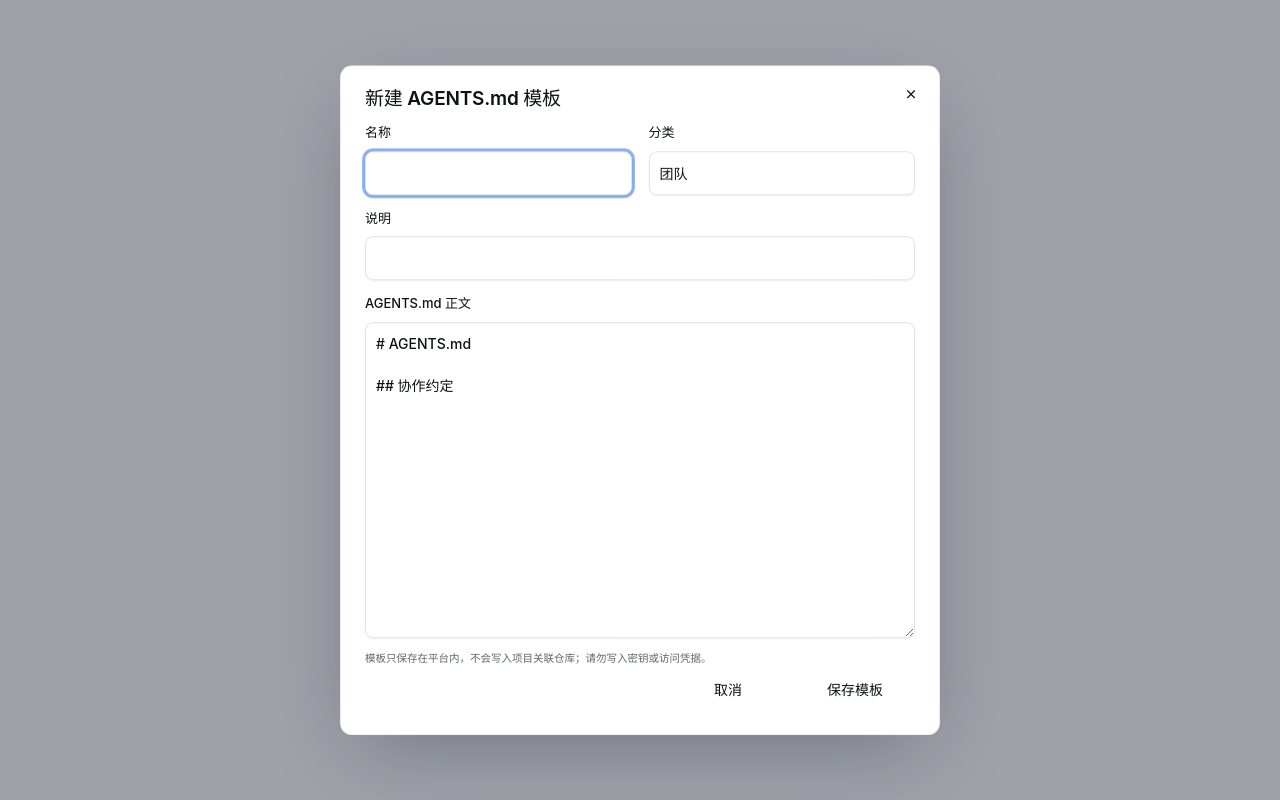
Test: TemplateForm › 名称与正文为空时阻止提交
This screenshot has width=1280, height=800.
Click the button "保存模板": (855, 690) [795,668,915,712]
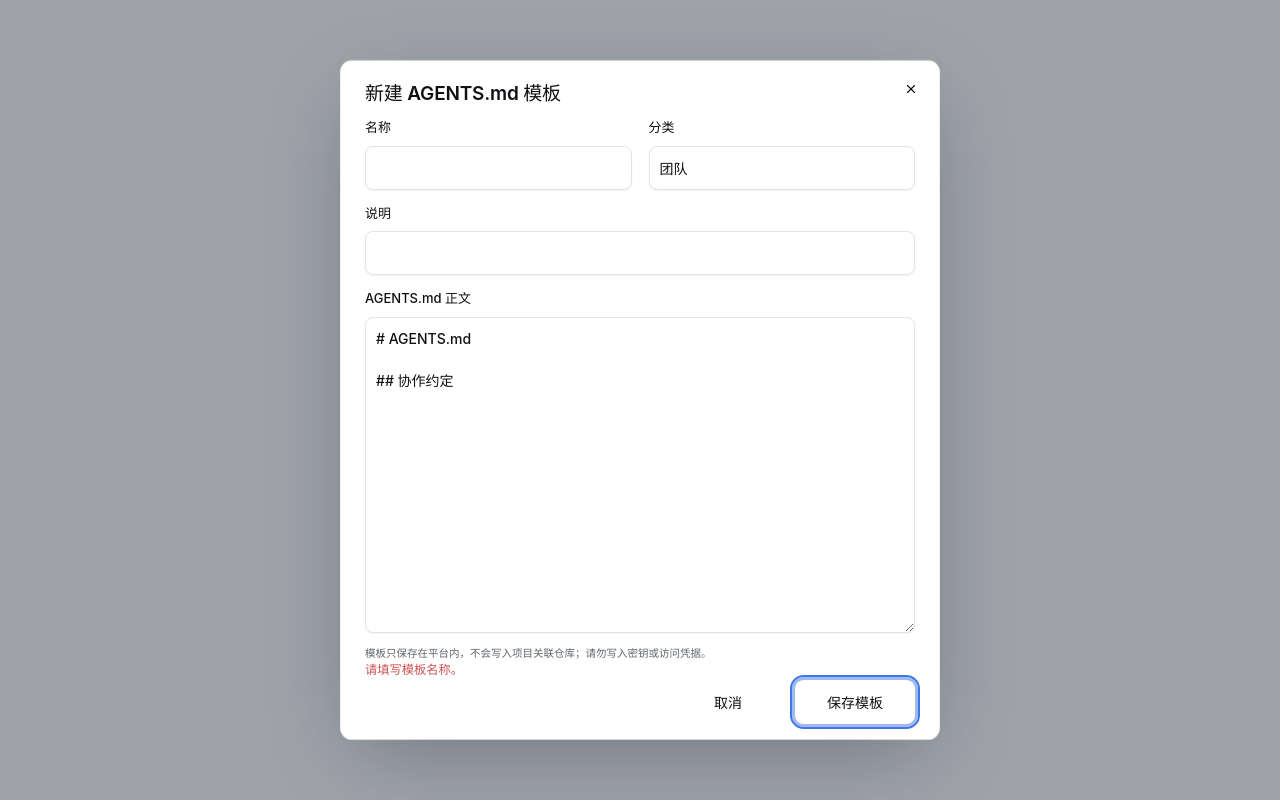
expect the message reads "请填写模板名称。": met, box [365,662,463,676]
